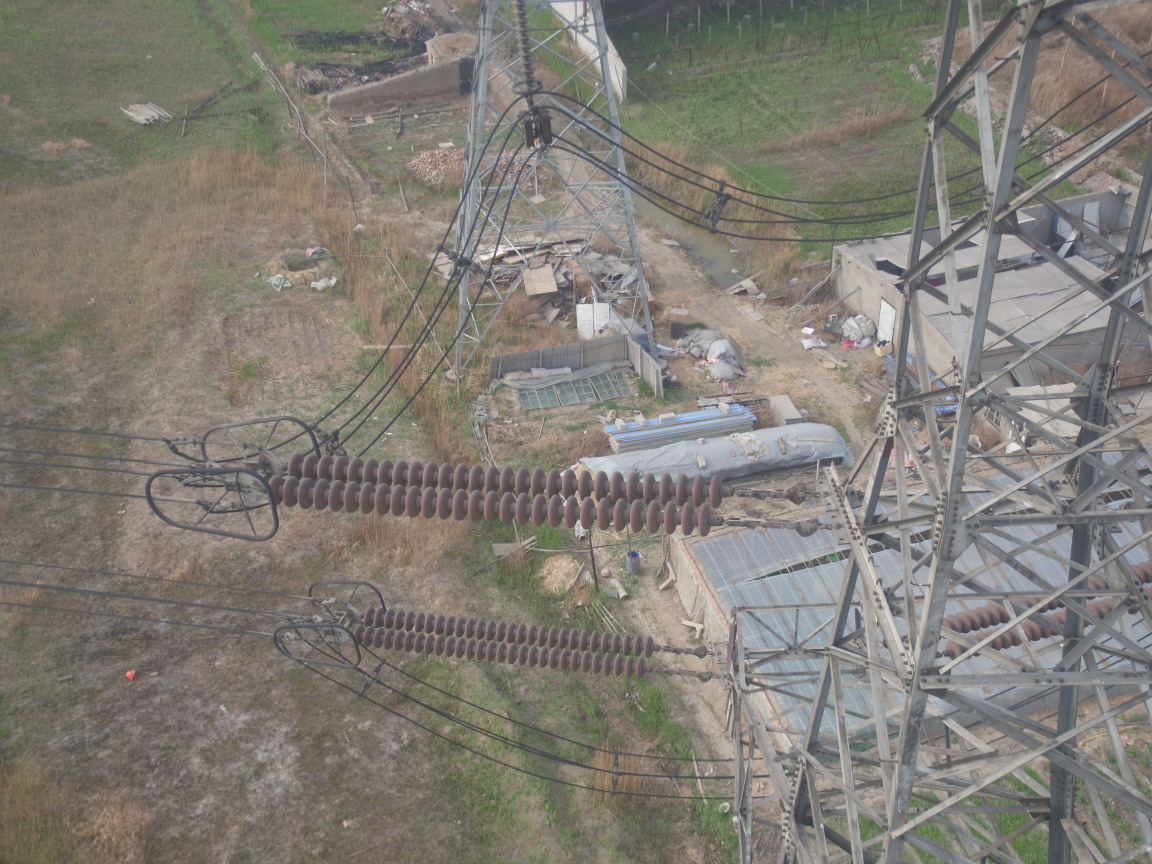insulator: (251, 447, 770, 539), (344, 603, 683, 681)
